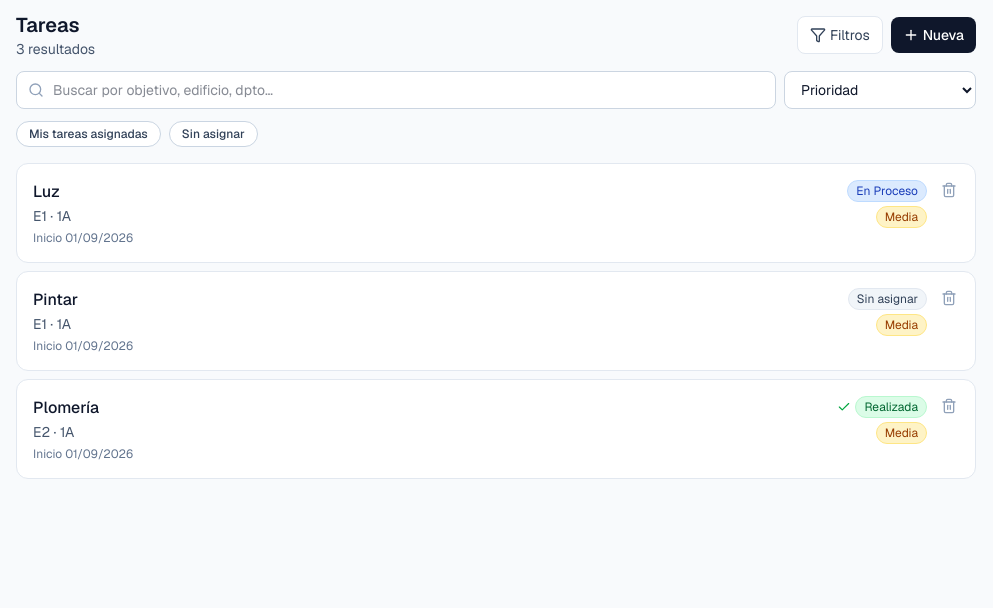
Test case: TareasPage — filtros en memoria › carga la lista una sola vez y filtra por estado sin volver a pedirla
Expected: the text "3 resultados" is shown, [16, 39, 95, 59]
Click the button "Filtros" at (840, 35), box [797, 16, 883, 54]
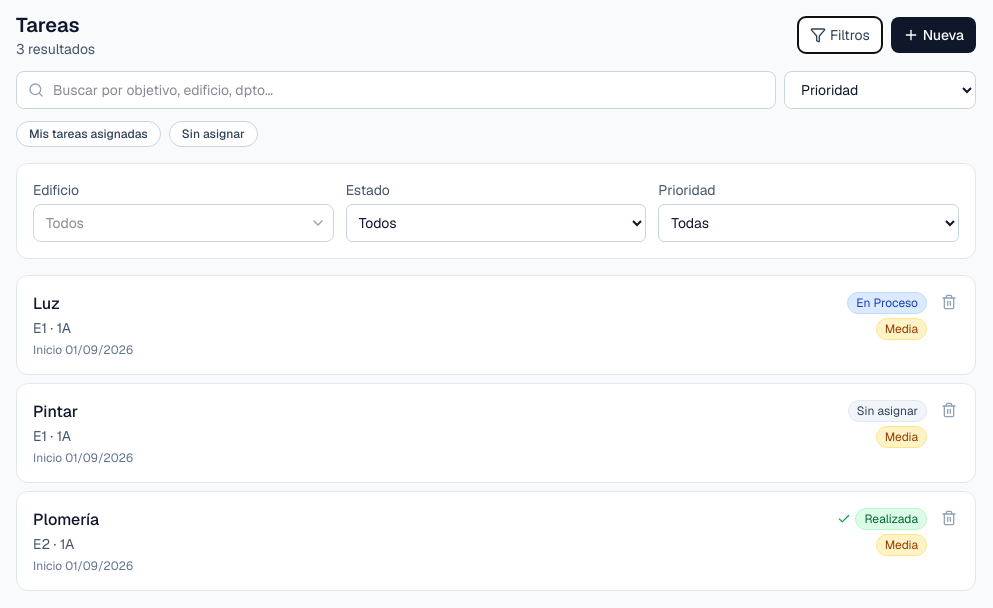
Select "En Proceso" in the dropdown labelled "Estado" at (496, 223), box [346, 204, 646, 242]
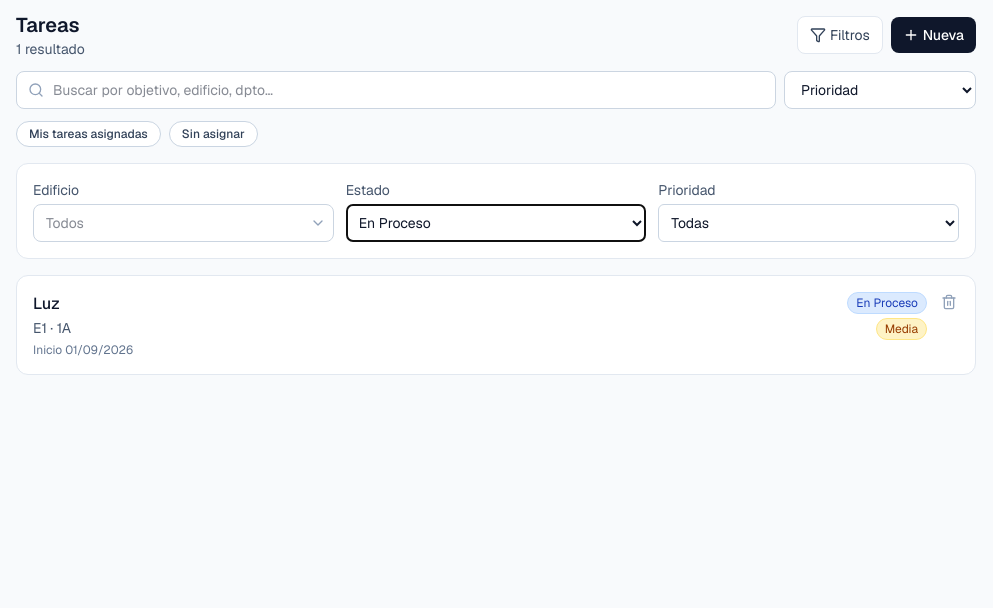
Expected: the heading "Luz" is shown, [33, 293, 60, 314]
Expected: the text "1 resultado" is shown, [16, 39, 85, 59]
Expected: the link "Pintar" is gone
